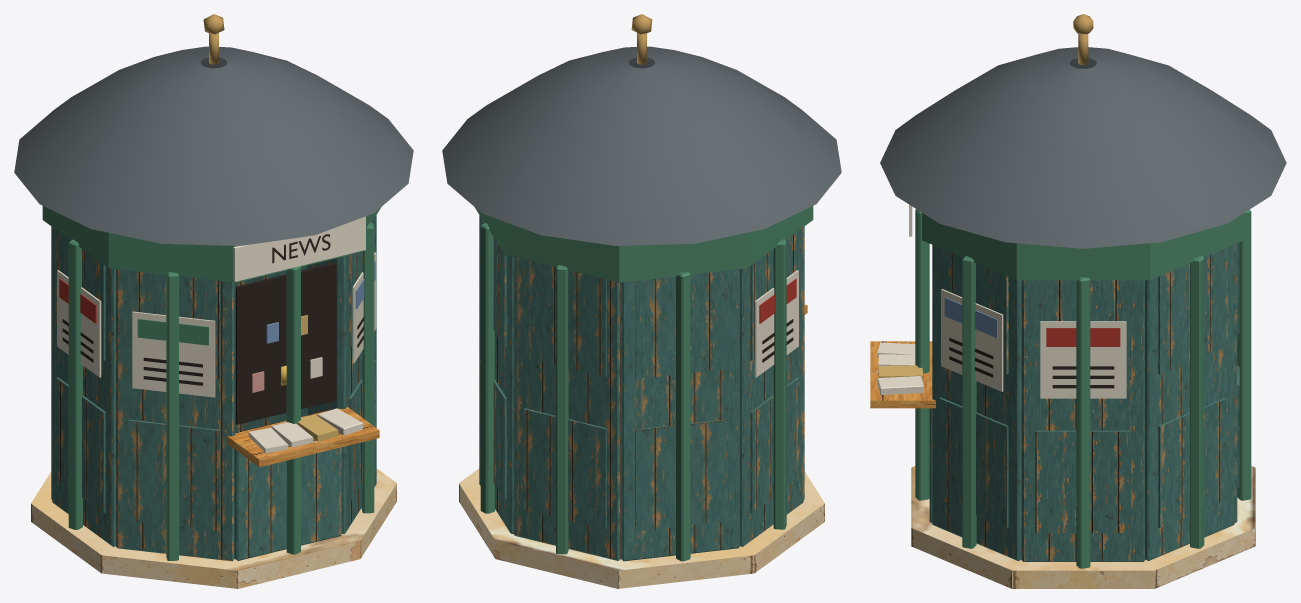
3 renders of one model, left to right at view 1: azimuth 30°, elevation 25°; view 2: azimuth 150°, elevation 25°; view 3: azimuth 270°, elevation 25°, orthographic.
Visible parts, largest first — view 1: house_paint, seaside_shutter, seaside_stone, seaside_timber; view 2: house_paint, seaside_shutter, seaside_stone; view 3: house_paint, seaside_shutter, seaside_stone, seaside_timber.
Boxes of the visible parts, box(x1,y1,x2,y2) form: house_paint: box(14, 14, 413, 560); seaside_shutter: box(51, 215, 376, 561); seaside_stone: box(31, 468, 396, 588); seaside_timber: box(227, 407, 379, 467); house_paint: box(442, 14, 841, 561); seaside_shutter: box(479, 215, 804, 561); seaside_stone: box(459, 468, 824, 588); house_paint: box(877, 14, 1286, 568); seaside_shutter: box(929, 242, 1239, 561); seaside_stone: box(911, 466, 1255, 588); seaside_timber: box(870, 341, 935, 408).
Size of the model in its own units: 2.4 by 3.27 by 2.46.
4 materials, 4 textured.
